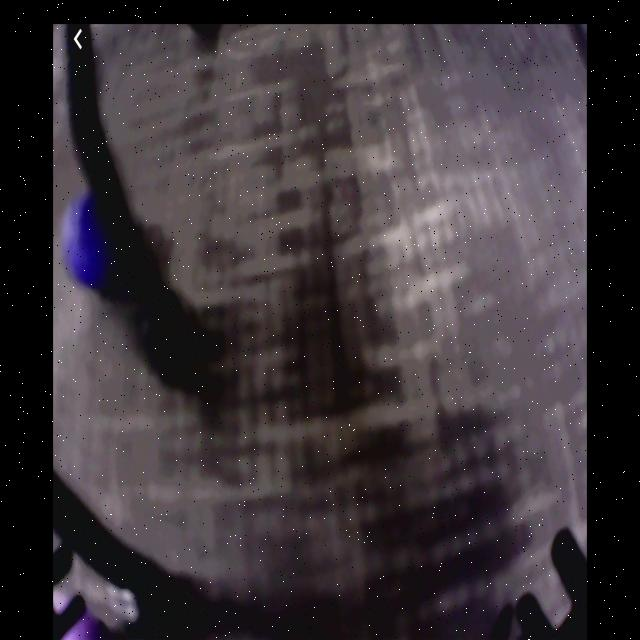ball: (65, 198, 130, 294), (53, 592, 100, 640)
